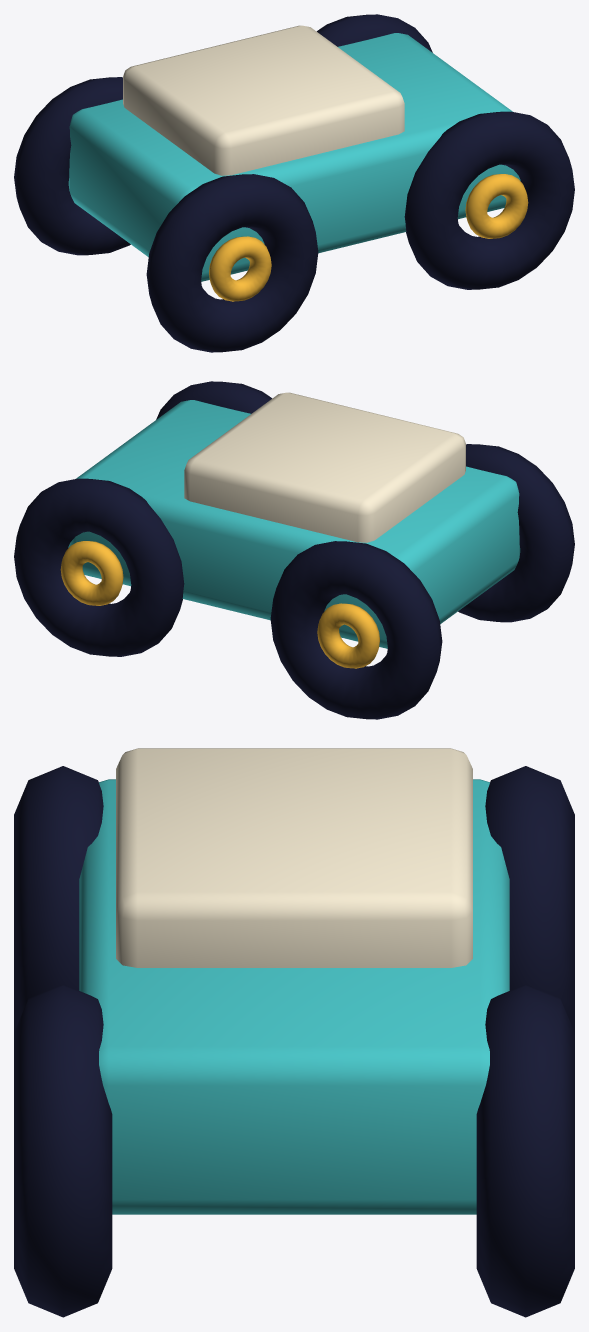
The model's file is r069_kart_gokart_source_gokart.glb.
The picture shows the model from 3 angles, top to bottom: view 1: azimuth 30°, elevation 25°; view 2: azimuth 150°, elevation 25°; view 3: azimuth 270°, elevation 25°; orthographic projection. The views are drawn at different scales.
Parts seen in each view (by area): view 1: r069_kart_gokart_source_gokart.001; view 2: r069_kart_gokart_source_gokart.001; view 3: r069_kart_gokart_source_gokart.001.
Part boxes in pixels (<box>): r069_kart_gokart_source_gokart.001: <box>14,14,574,352</box>; r069_kart_gokart_source_gokart.001: <box>14,381,574,719</box>; r069_kart_gokart_source_gokart.001: <box>14,748,574,1317</box>.
Size of the model in its own units: 3.46 by 1.56 by 2.28.
